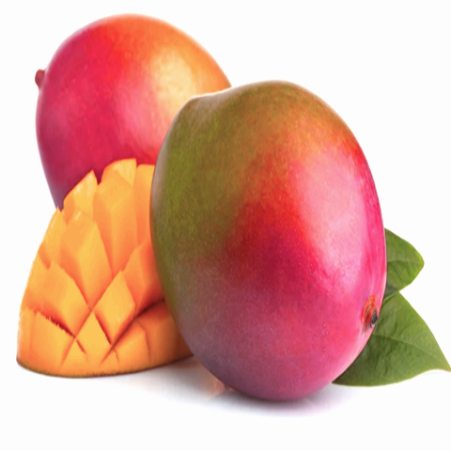mango: (139, 72, 405, 409), (13, 0, 262, 268)
